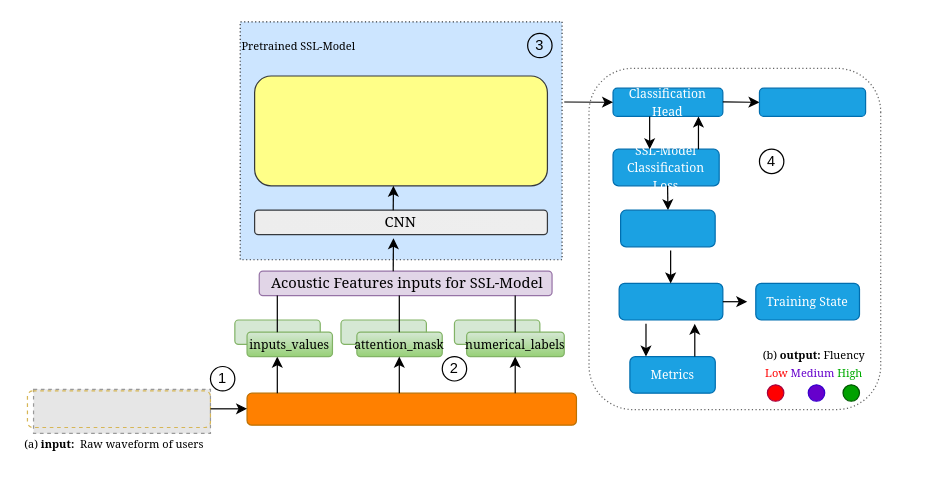
This 938x489 diagram has some shape labels left out. Grey dashed boxes stand in for pictures. Here are the shapes that lost their labels. From the top down, the centre of each, then its label:
pixel 812 101: SSL-Model Ouput
pixel 400 130: Transformer
pixel 667 228: CTCTrainer
pixel 670 301: AMP
pixel 411 408: Acoustic Feature Extractors
